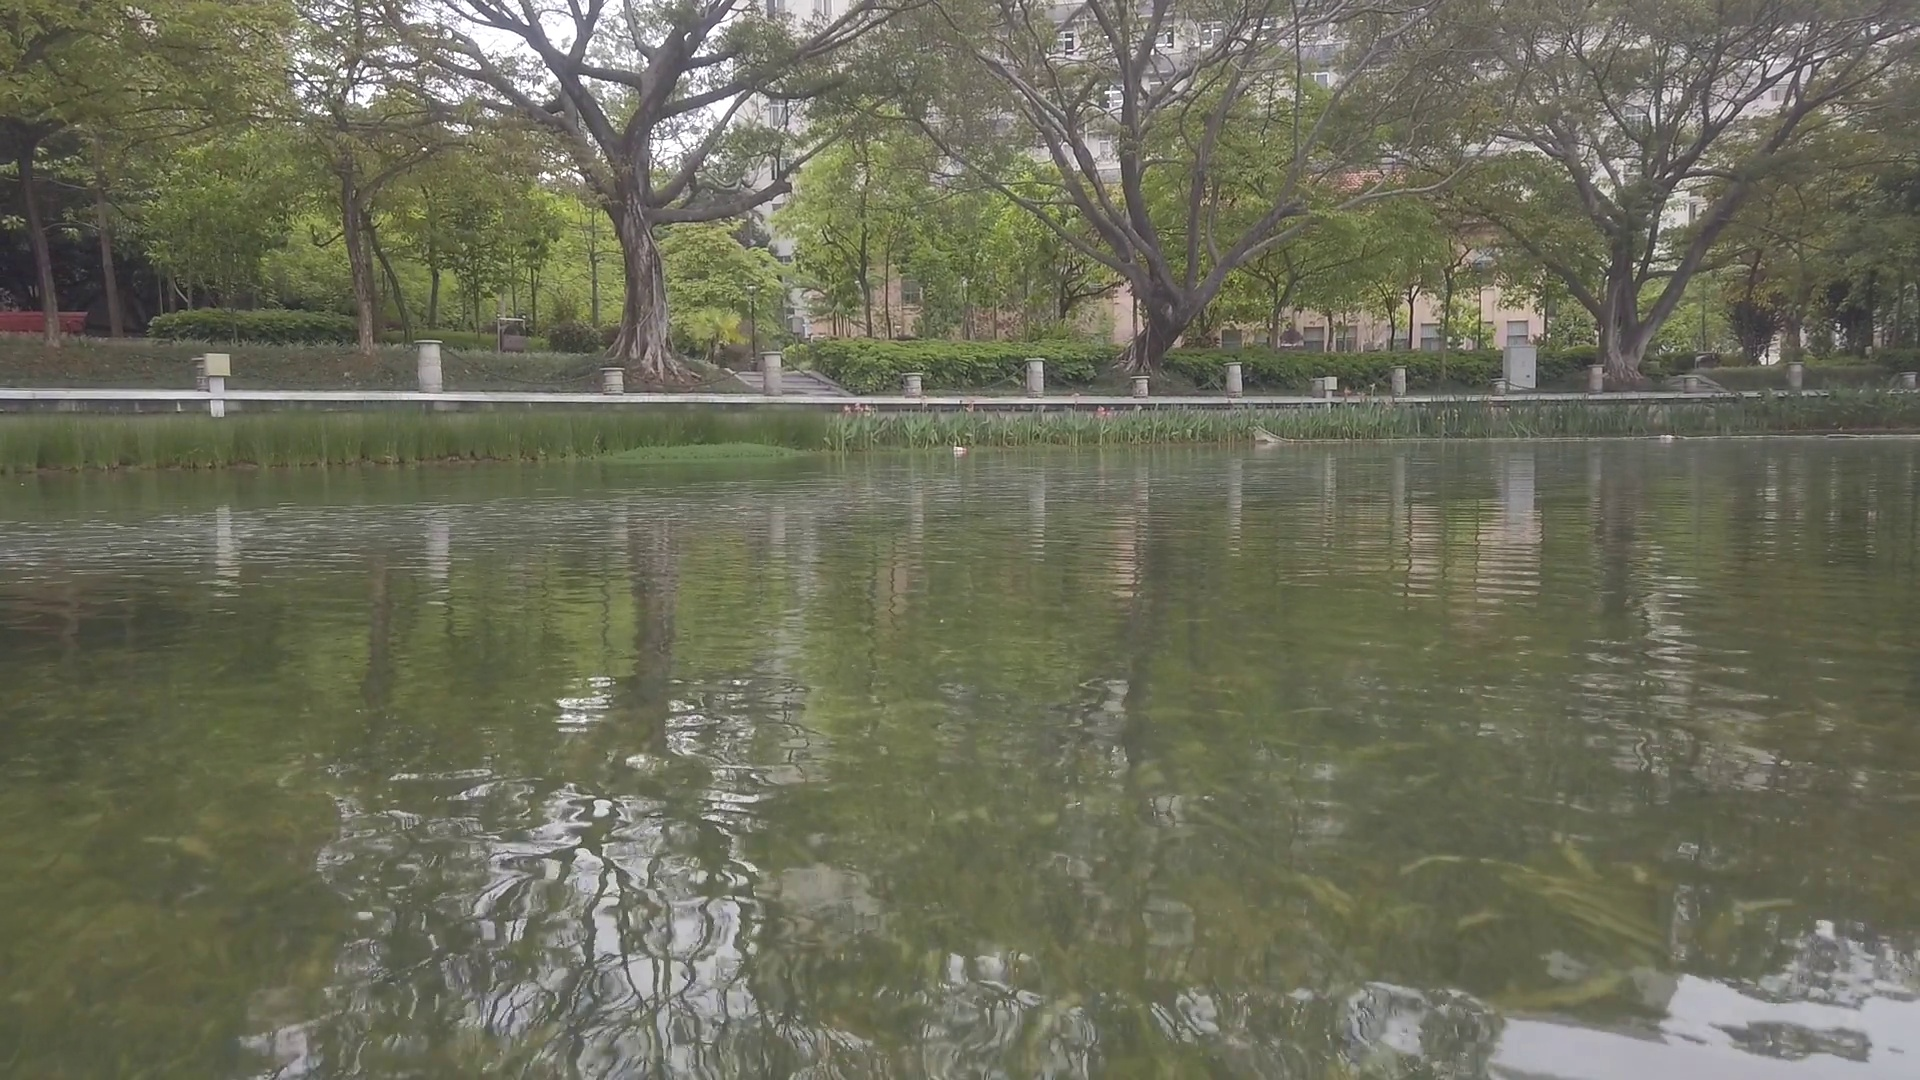bottle: (1659, 433, 1673, 440), (952, 448, 969, 450)
